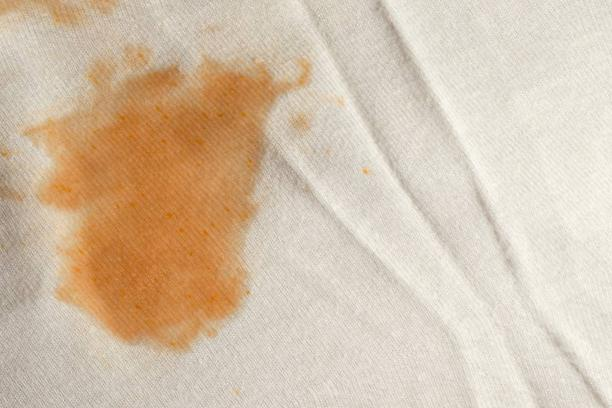stain: (23, 37, 322, 367), (3, 1, 125, 34), (2, 125, 25, 209)
